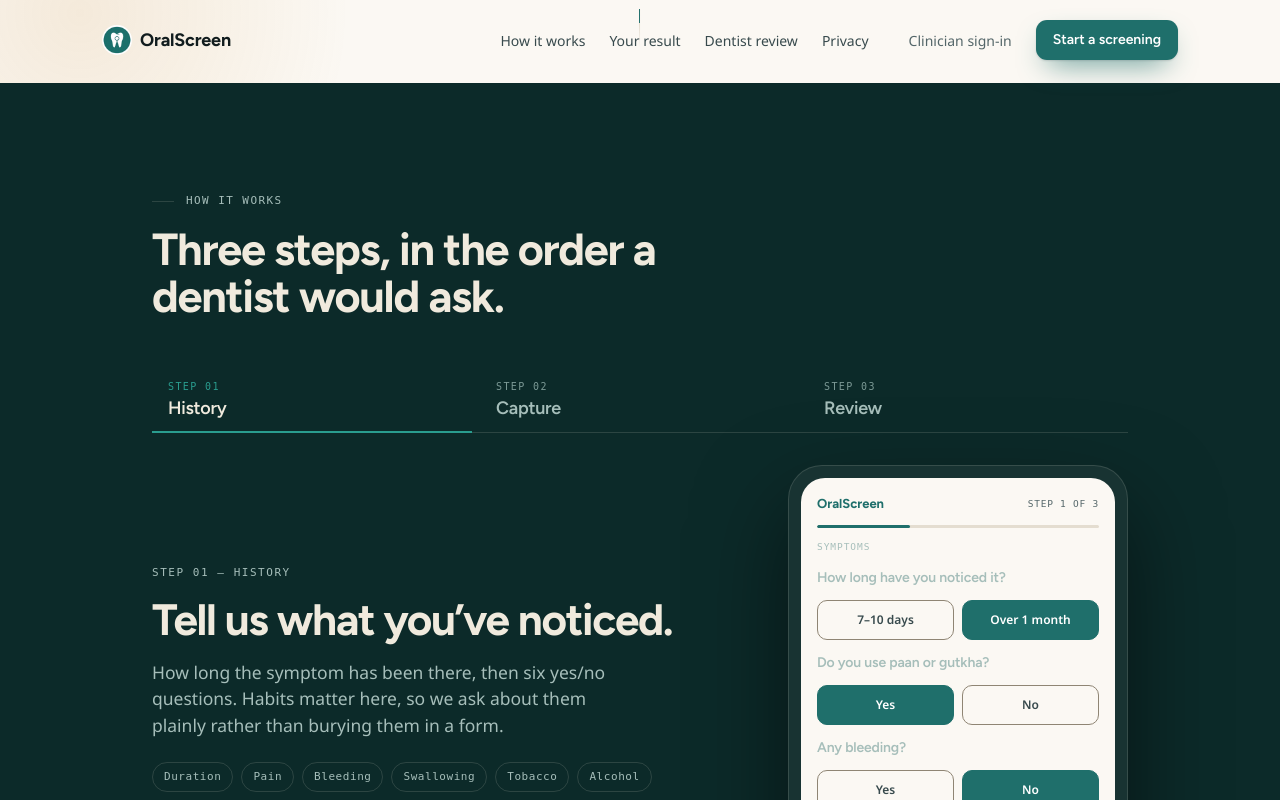
the landing page › lets a step be opened directly from its tab
(page scrolled)
Click the tab "STEP 03 Review". click: x=846, y=386
box: 808,369 -> 1128,433
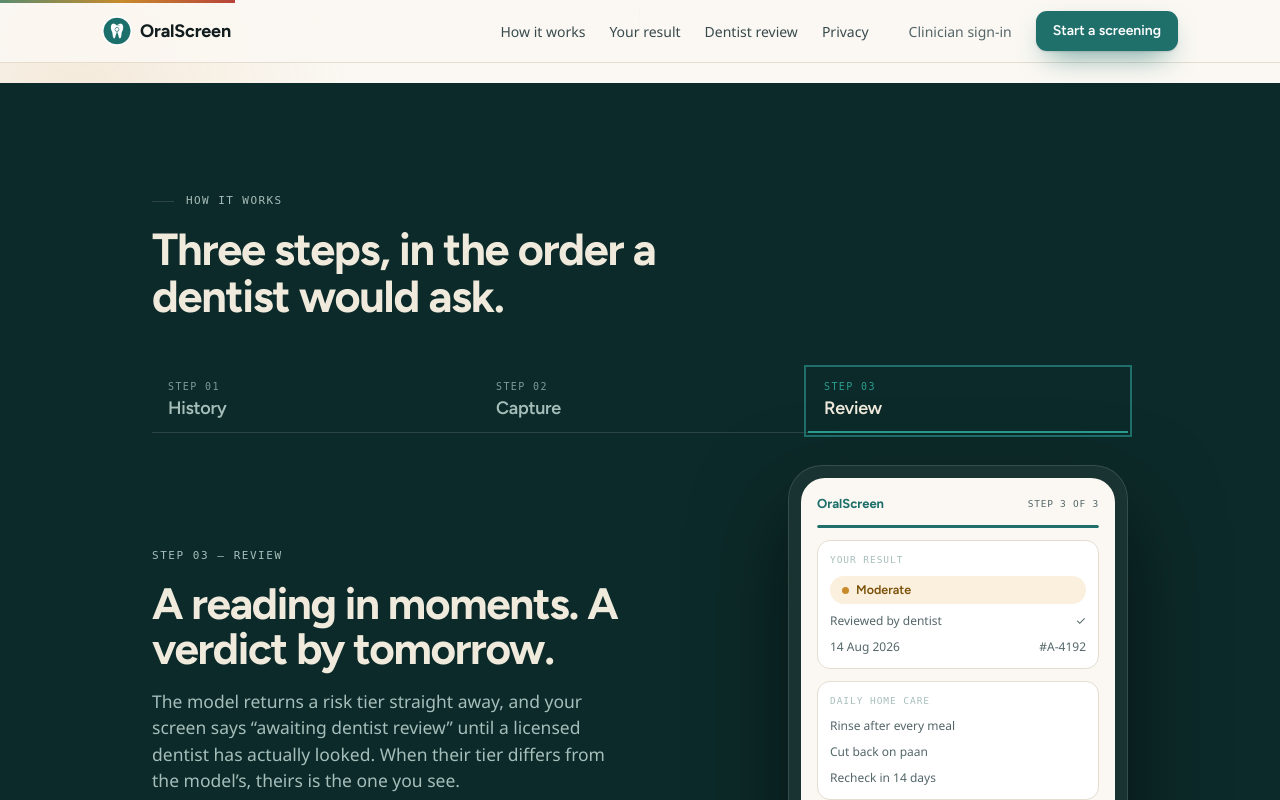
Check: the heading "A reading in moments. A verdict by tomorrow." is shown, box 152,577 -> 617,676
